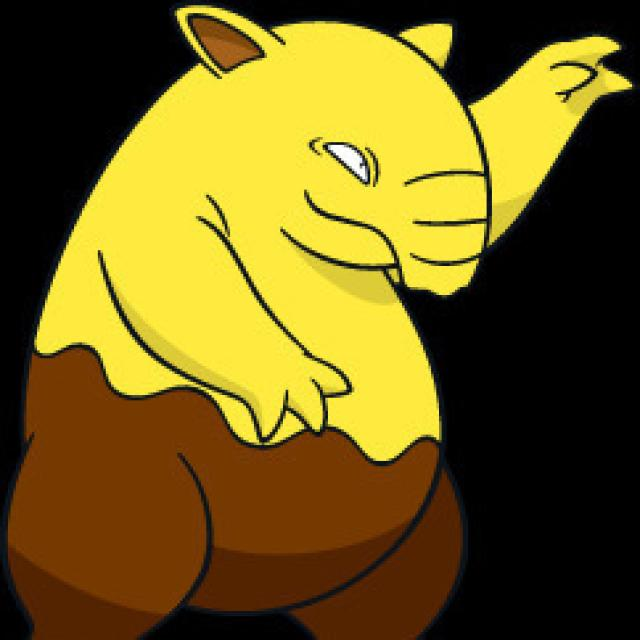Drowzee: (16, 7, 580, 640)
